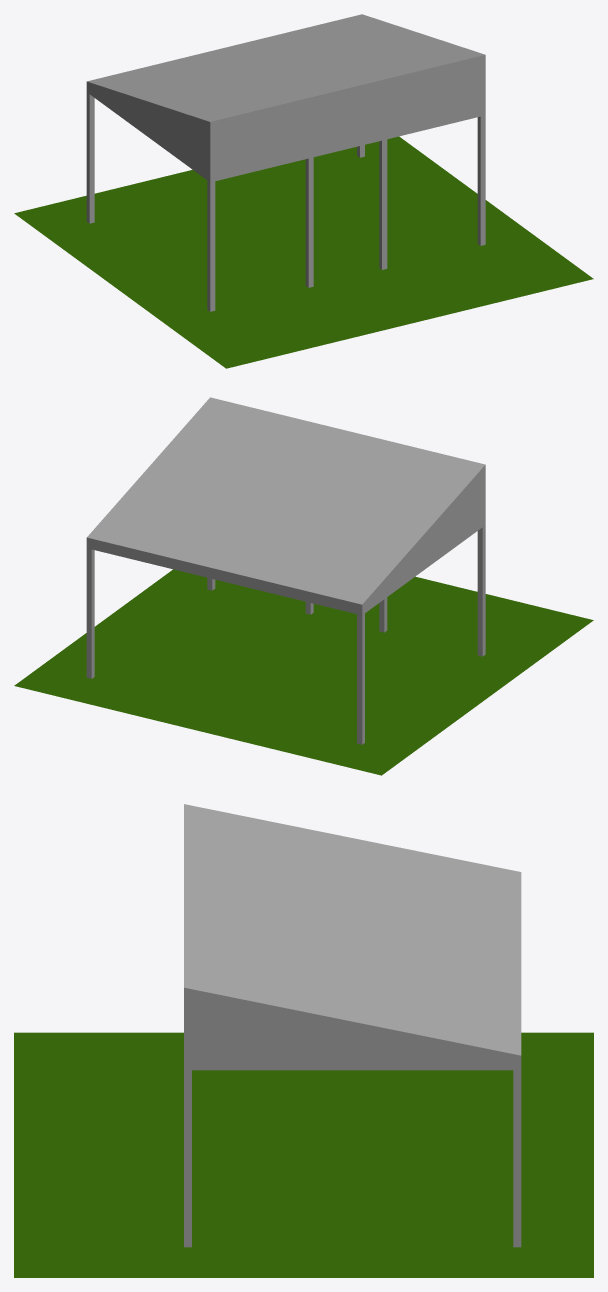
The model's file is RabbitHutch_Test.fbx.
3 views of the same model, one above another, from view 1: azimuth 30°, elevation 25°; view 2: azimuth 150°, elevation 25°; view 3: azimuth 270°, elevation 25° (orthographic). The views are drawn at different scales.
Visible parts, largest first — view 1: RabbitHutch_Test; view 2: RabbitHutch_Test; view 3: RabbitHutch_Test.
Boxes of the visible parts, x1,y1,x2,y2 form: RabbitHutch_Test: [14, 14, 593, 368]; RabbitHutch_Test: [14, 397, 593, 775]; RabbitHutch_Test: [14, 804, 593, 1277].
Size of the model in its own units: 5 by 2.6 by 5.
